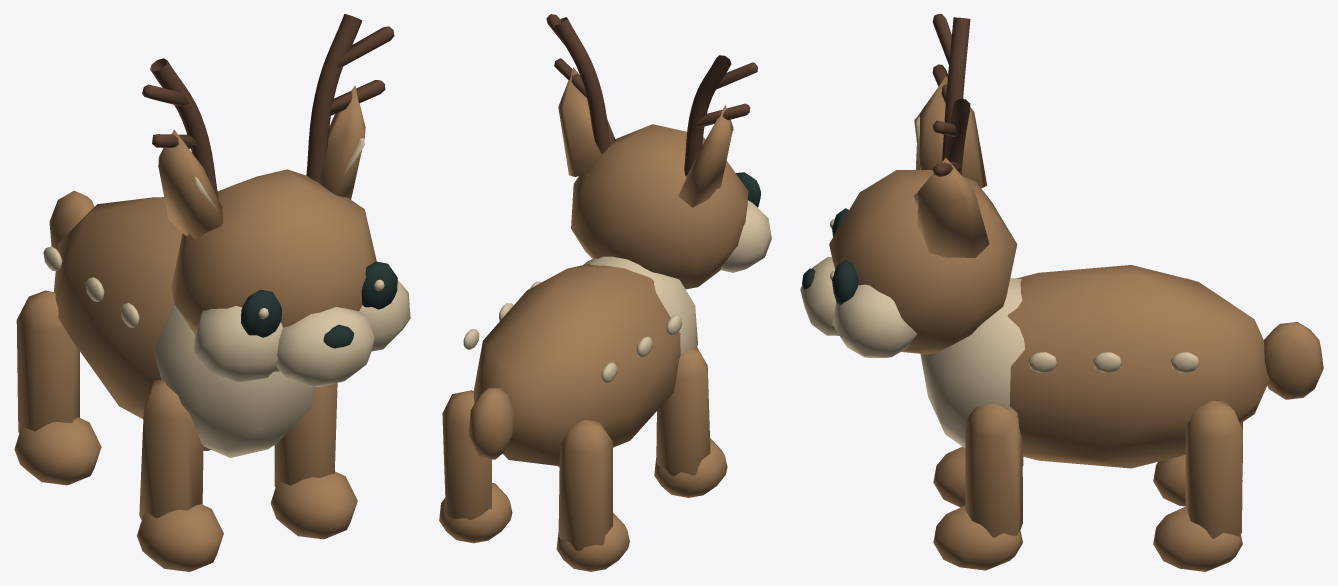
The model's file is org_deer.glb.
3 views of the same model, side by side, from view 1: azimuth 30°, elevation 25°; view 2: azimuth 150°, elevation 25°; view 3: azimuth 270°, elevation 25° (orthographic). The views are drawn at different scales.
Visible parts, largest first — view 1: Head, Body, Leg_BR, Leg_FR, Leg_FL, Eye_R, Tail, Eye_L; view 2: Body, Head, Leg_BR, Leg_FR, Leg_BL, Tail, Eye_R; view 3: Body, Head, Leg_BL, Leg_FL, Tail, Leg_FR, Leg_BR, Eye_L.
Part boxes in pixels (x1,y1,x2,y2): Head: [142, 14, 410, 387]; Body: [43, 197, 314, 457]; Leg_BR: [14, 290, 101, 485]; Leg_FR: [137, 379, 223, 571]; Leg_FL: [270, 383, 357, 539]; Eye_R: [240, 289, 281, 337]; Tail: [49, 190, 94, 250]; Eye_L: [361, 261, 397, 309]; Body: [463, 256, 697, 465]; Head: [546, 14, 771, 289]; Leg_BR: [556, 420, 629, 571]; Leg_FR: [654, 347, 727, 497]; Leg_BL: [439, 390, 512, 543]; Tail: [468, 387, 514, 459]; Eye_R: [736, 172, 760, 207]; Body: [920, 265, 1269, 468]; Head: [800, 14, 1017, 357]; Leg_BL: [1153, 401, 1242, 571]; Leg_FL: [933, 404, 1022, 570]; Tail: [1264, 322, 1323, 399]; Leg_FR: [933, 446, 1023, 507]; Leg_BR: [1153, 422, 1242, 506]; Eye_L: [829, 260, 858, 304].
Size of the model in its own units: 0.6528 by 1.3 by 1.29.
